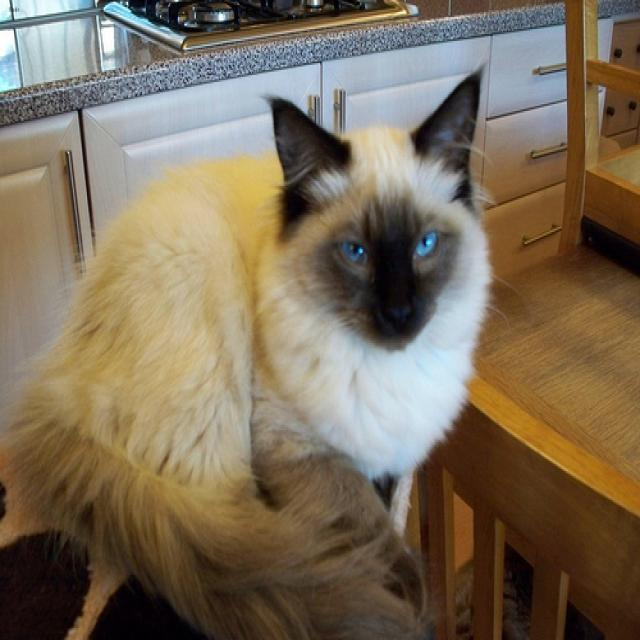Ragdoll: (261, 58, 492, 377)
